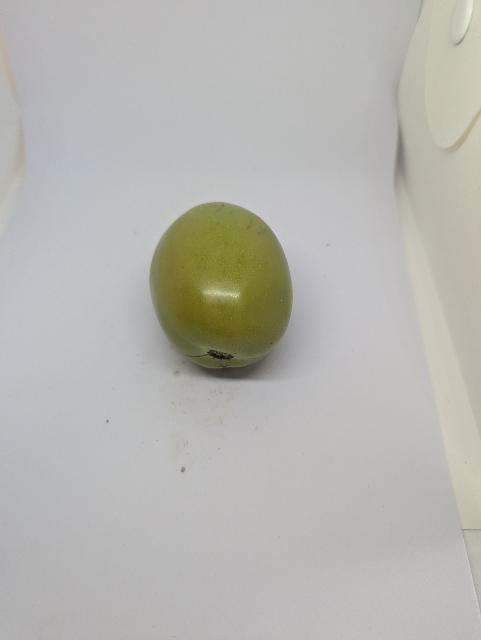green: (144, 190, 309, 383)
